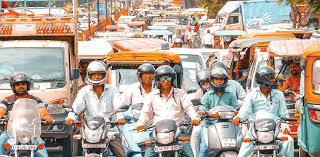helmet: (254, 66, 278, 90), (155, 65, 177, 90), (208, 67, 229, 93), (9, 72, 31, 96), (86, 61, 107, 86), (195, 68, 213, 93), (136, 63, 156, 85), (173, 37, 184, 49)
